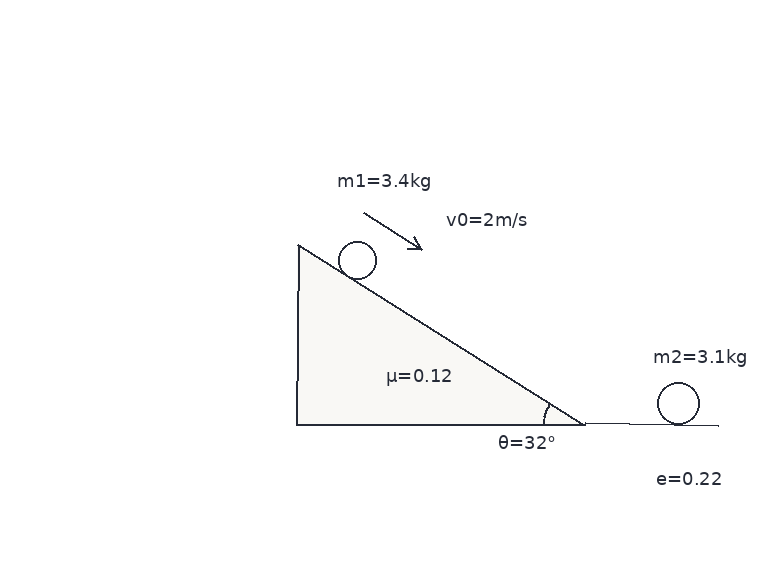ball: (655, 380, 701, 426), (336, 239, 378, 281)
ramp: (295, 243, 586, 426)
